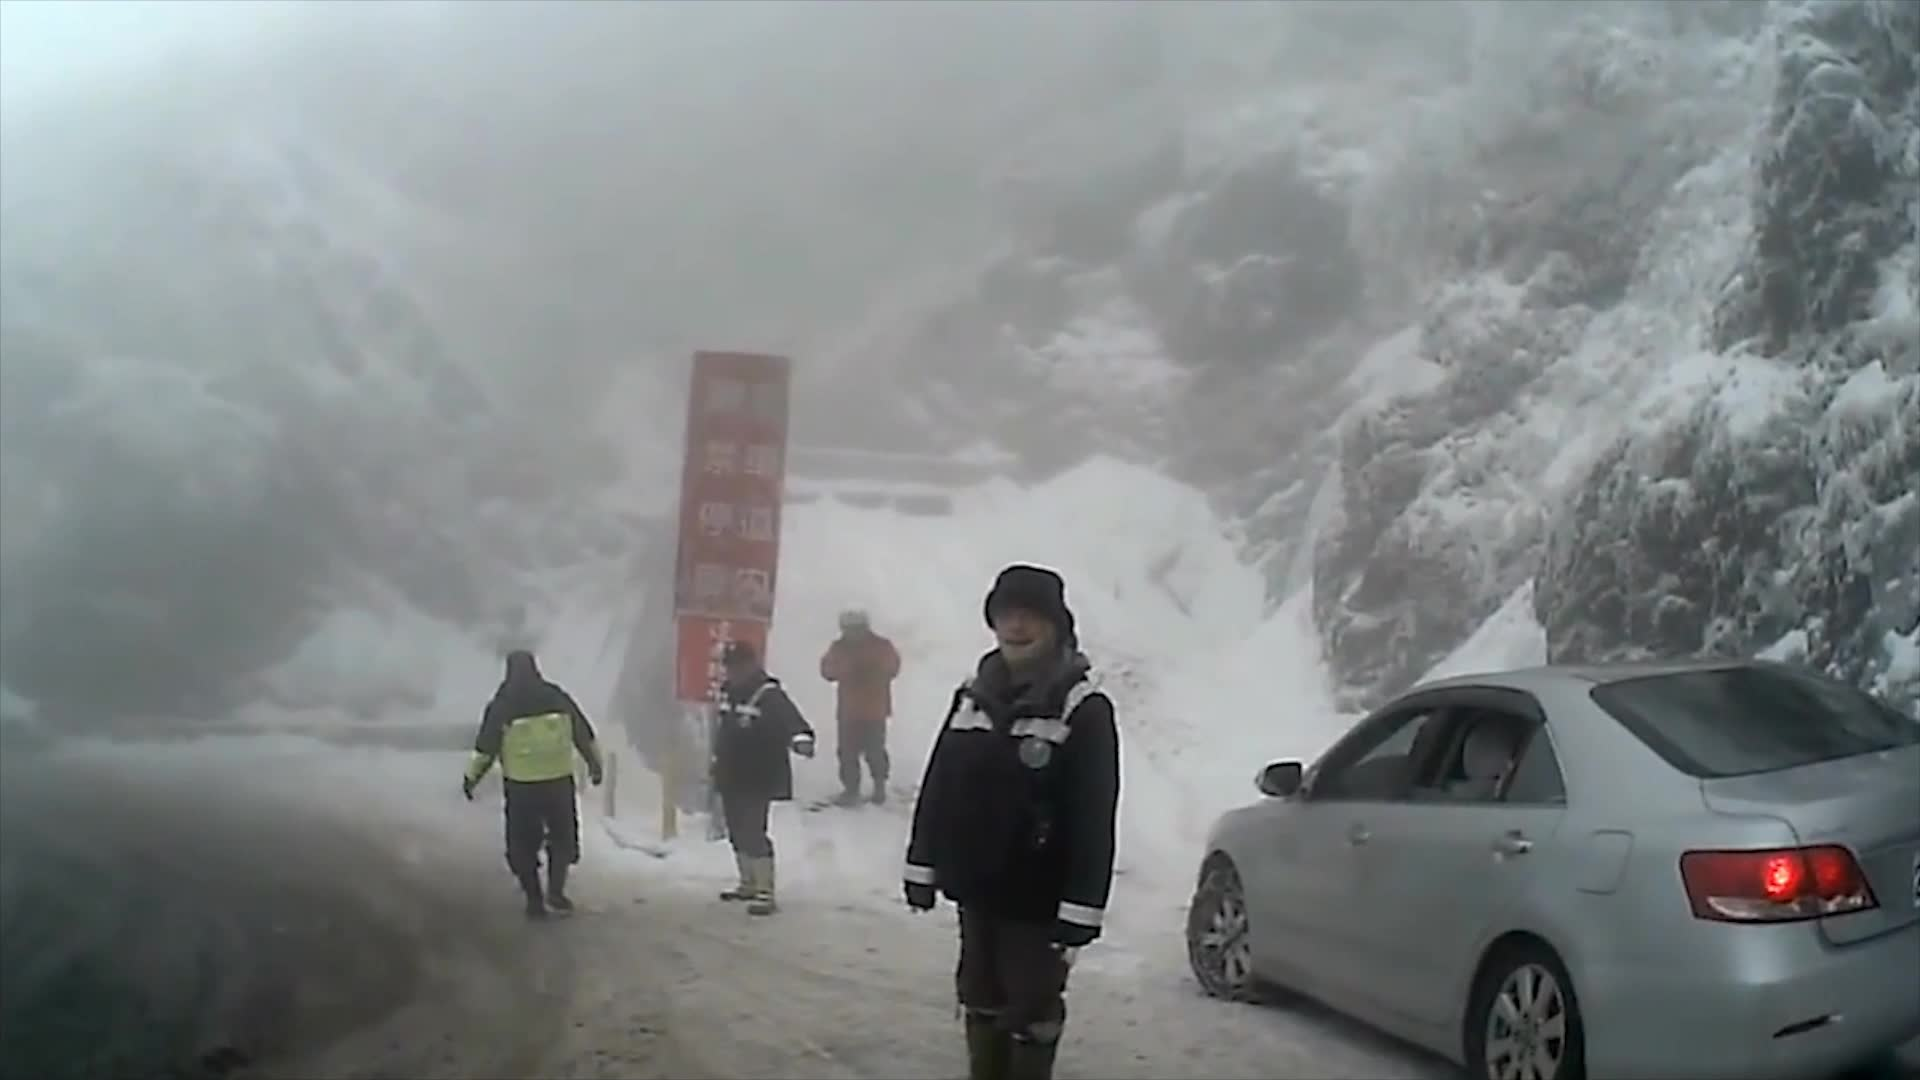pedestrian: (899, 563, 1118, 1080), (458, 654, 604, 924), (705, 643, 814, 914), (821, 610, 904, 807)
vehicle: (1181, 660, 1920, 1080)
